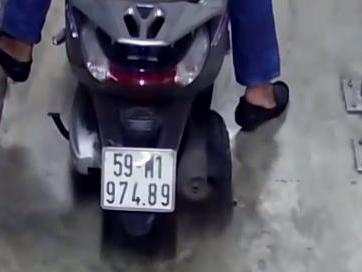num_plate: (101, 145, 177, 213)
